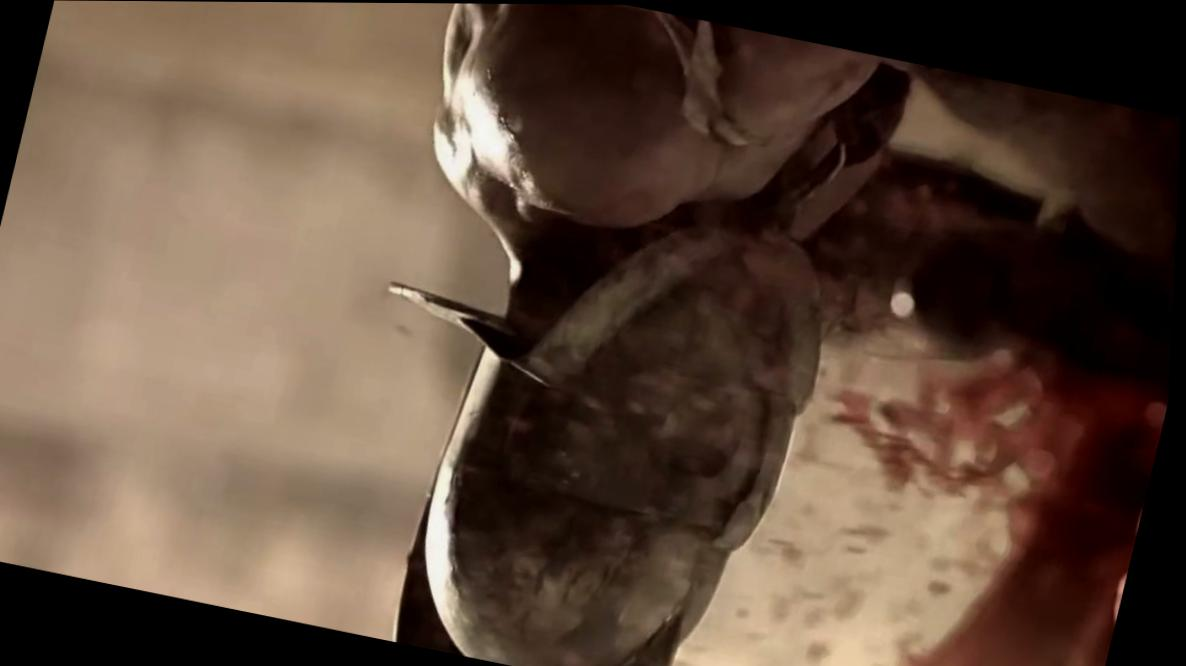Fire: (680, 325, 1170, 666)
